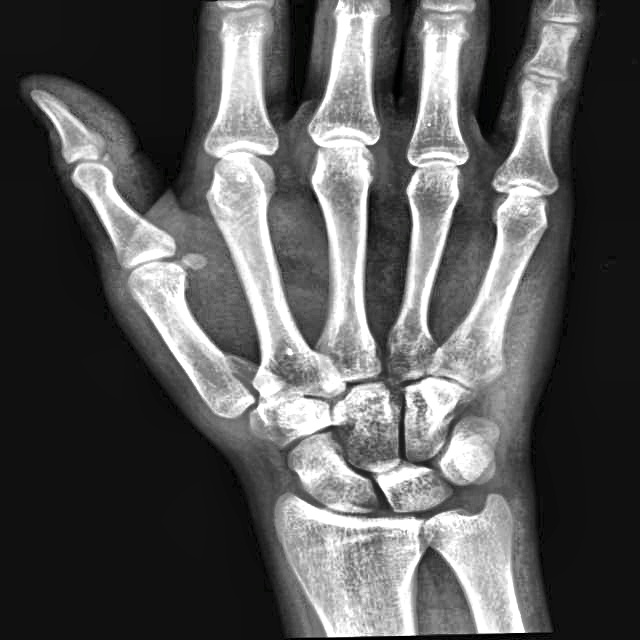Oblique: (195, 349, 286, 417)
